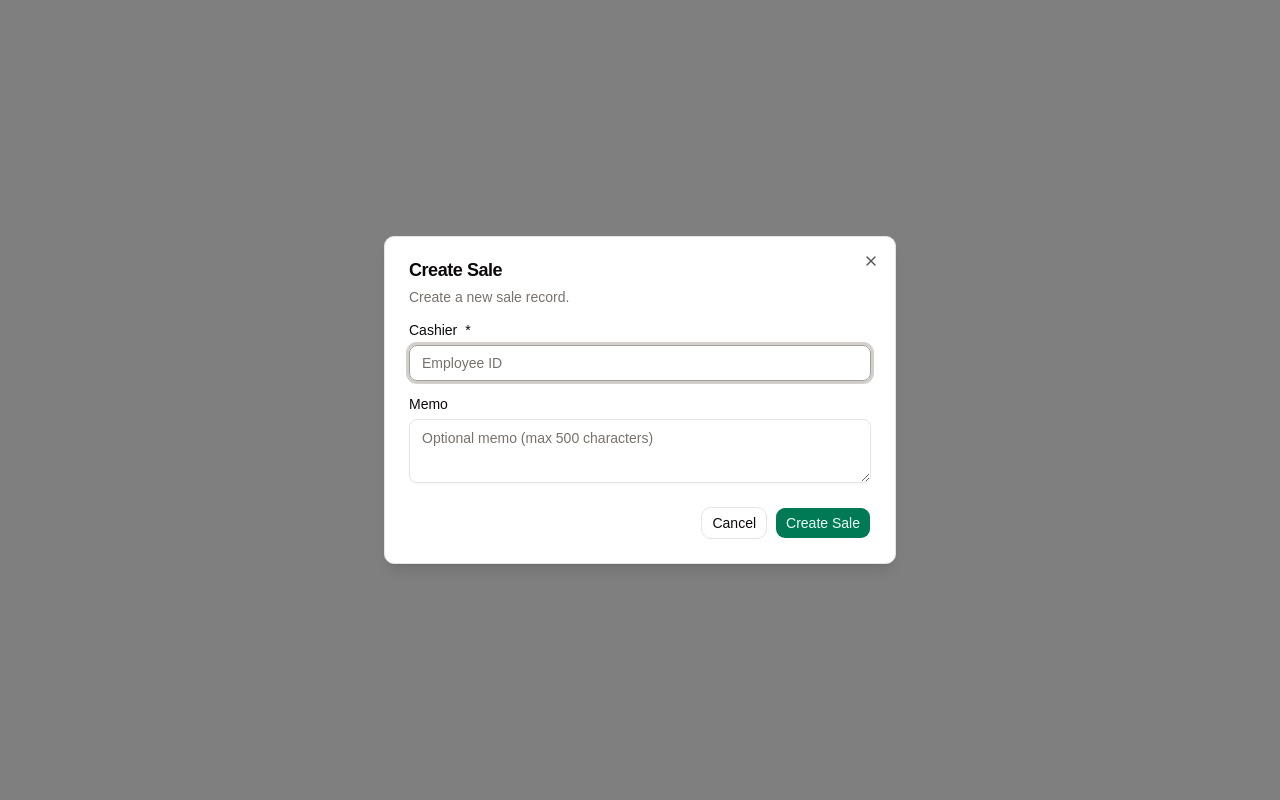
Test case: SaleForm › error message display › shows timeout error message
Step 1. Type "emp-1" into the field labelled "Cashier *" → (640, 363), box [409,345,871,381]
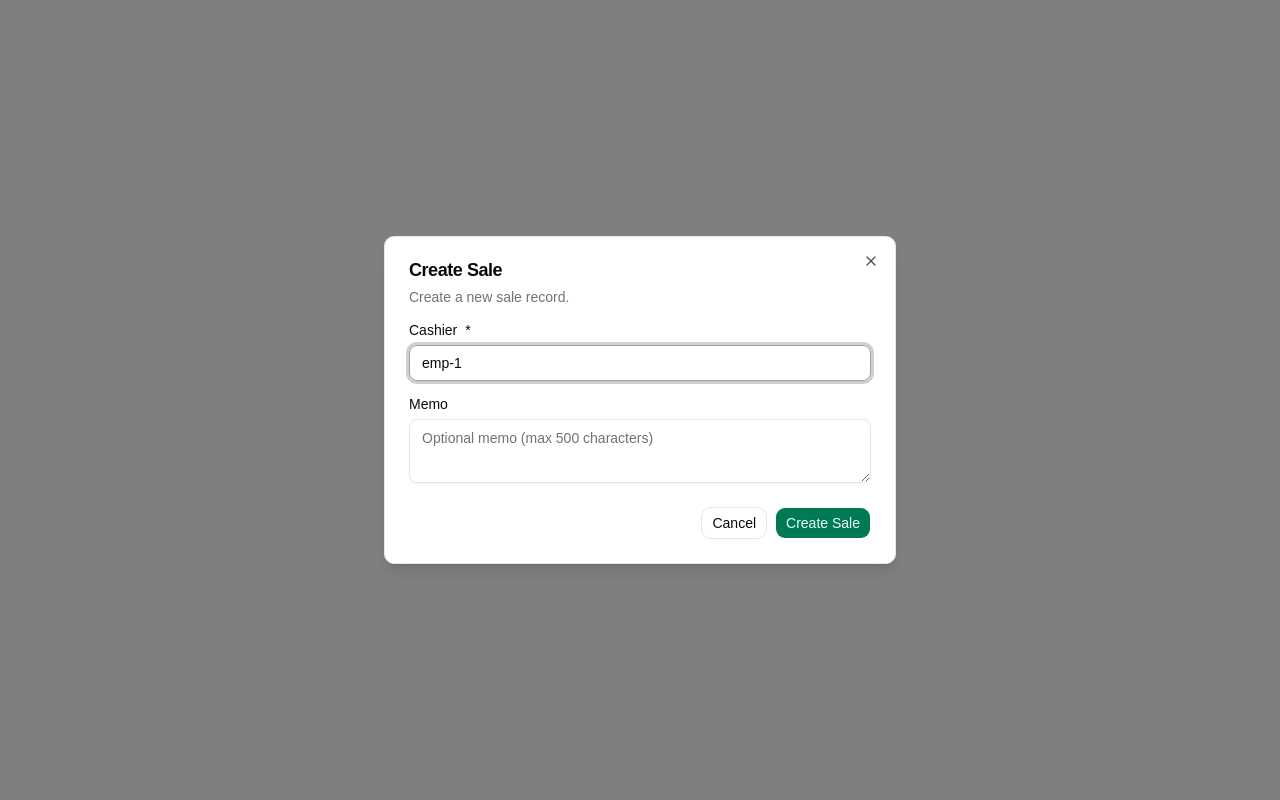
Step 2. Submit the form, box [409,323,871,539]
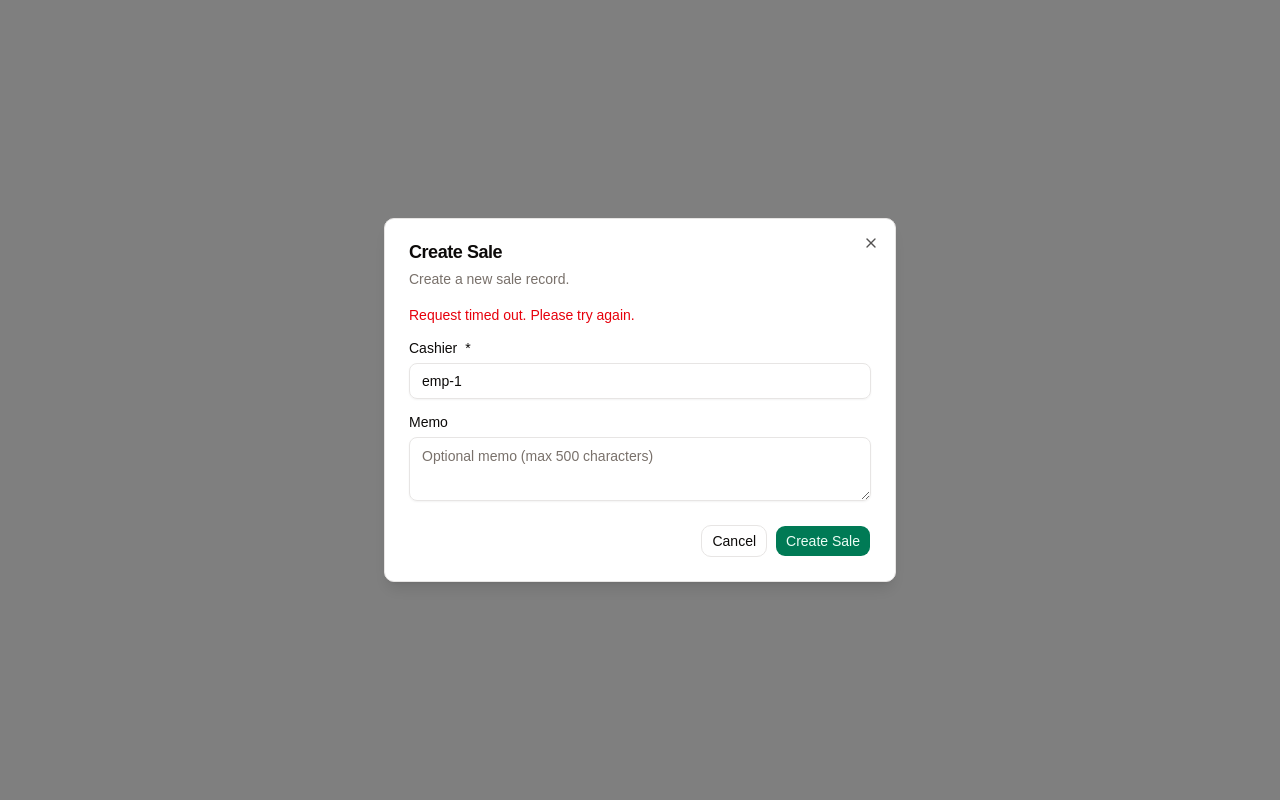
Check: the text "Request timed out. Please try again." is shown, box [409,307,635,323]
